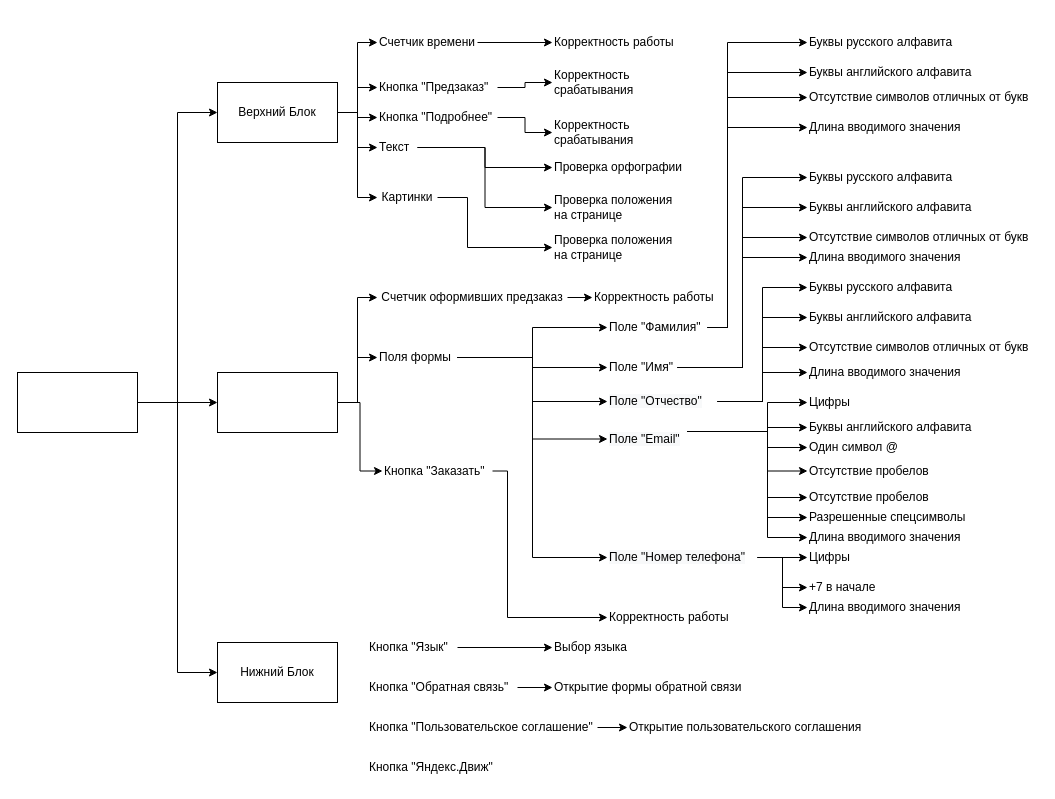
This 1055x799 diagram has some shape labels left out. Here are the shapes that lost their labels. From the top down, the centre of each, then its label:
At point 77,402: "Промо Страница Яндекс.Самокат".
At point 277,402: "Форма Предзаказа".
